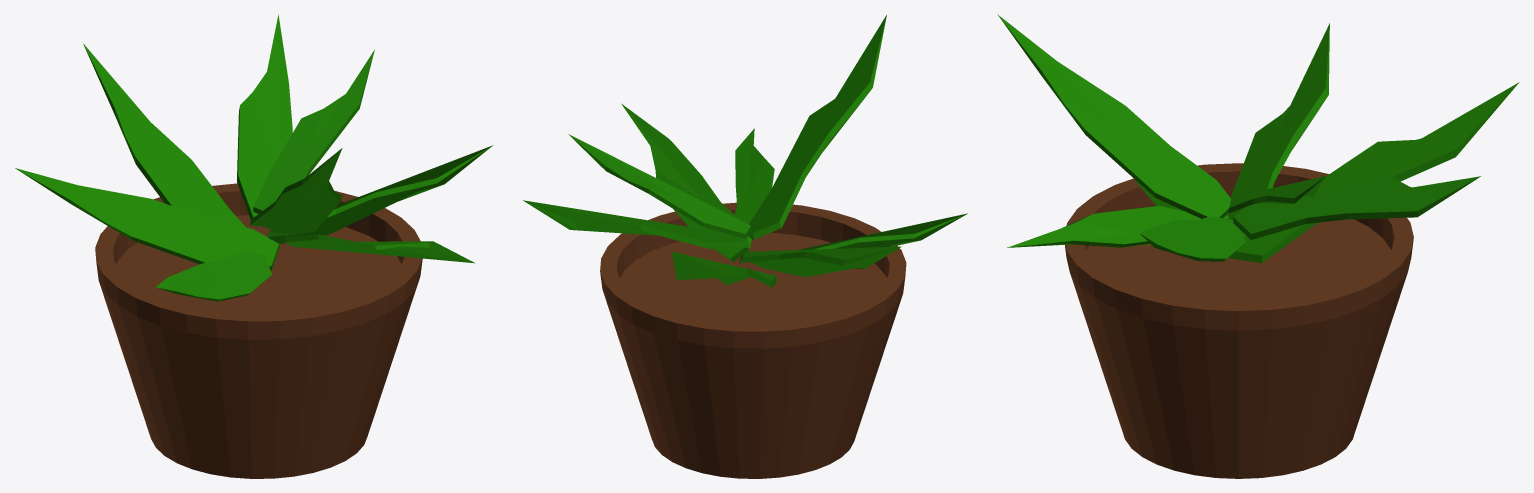
The model's file is pot.fbx.
3 renders of one model, left to right at view 1: azimuth 30°, elevation 25°; view 2: azimuth 150°, elevation 25°; view 3: azimuth 270°, elevation 25°, orthographic. The views are drawn at different scales.
Visible parts, largest first — view 1: Cylinder, Cylinder.003, Cylinder.002, Cylinder.006, Cylinder.007, Cylinder.009, Cylinder.005, Cylinder.004, Cylinder.008; view 2: Cylinder, Cylinder.009, Cylinder.006, Cylinder.007, Cylinder.004, Cylinder.003, Cylinder.008, Cylinder.005, Cylinder.002; view 3: Cylinder, Cylinder.009, Cylinder.006, Cylinder.002, Cylinder.003, Cylinder.008, Cylinder.004, Cylinder.007.
Part boxes in pixels (bbox=[...]): Cylinder: bbox=[95, 183, 422, 478]; Cylinder.003: bbox=[15, 168, 279, 270]; Cylinder.002: bbox=[83, 43, 271, 270]; Cylinder.006: bbox=[237, 14, 292, 220]; Cylinder.007: bbox=[253, 49, 374, 213]; Cylinder.009: bbox=[249, 148, 342, 236]; Cylinder.005: bbox=[155, 251, 271, 301]; Cylinder.004: bbox=[268, 145, 493, 244]; Cylinder.008: bbox=[284, 234, 474, 263]; Cylinder: bbox=[600, 202, 906, 478]; Cylinder.009: bbox=[748, 15, 886, 239]; Cylinder.006: bbox=[523, 200, 749, 248]; Cylinder.007: bbox=[568, 134, 750, 238]; Cylinder.004: bbox=[621, 103, 751, 262]; Cylinder.003: bbox=[739, 246, 901, 277]; Cylinder.008: bbox=[734, 128, 774, 239]; Cylinder.005: bbox=[799, 213, 967, 249]; Cylinder.002: bbox=[672, 251, 776, 287]; Cylinder: bbox=[1065, 163, 1413, 478]; Cylinder.009: bbox=[997, 14, 1230, 218]; Cylinder.006: bbox=[1233, 174, 1480, 239]; Cylinder.002: bbox=[1228, 82, 1519, 263]; Cylinder.003: bbox=[1227, 23, 1329, 236]; Cylinder.008: bbox=[1007, 206, 1200, 247]; Cylinder.004: bbox=[1140, 216, 1245, 261]; Cylinder.007: bbox=[1229, 175, 1326, 213].
Size of the model in its own units: 506 by 465 by 550.
